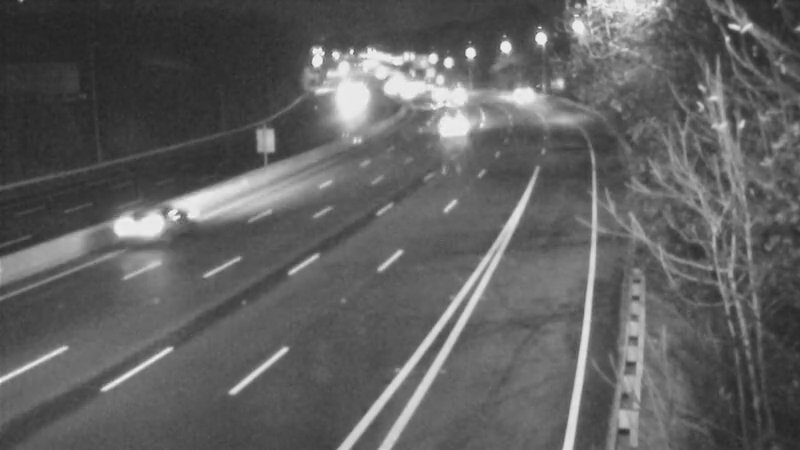vehicle: (91, 183, 171, 263), (488, 67, 538, 117), (415, 79, 465, 129), (425, 104, 475, 154)
